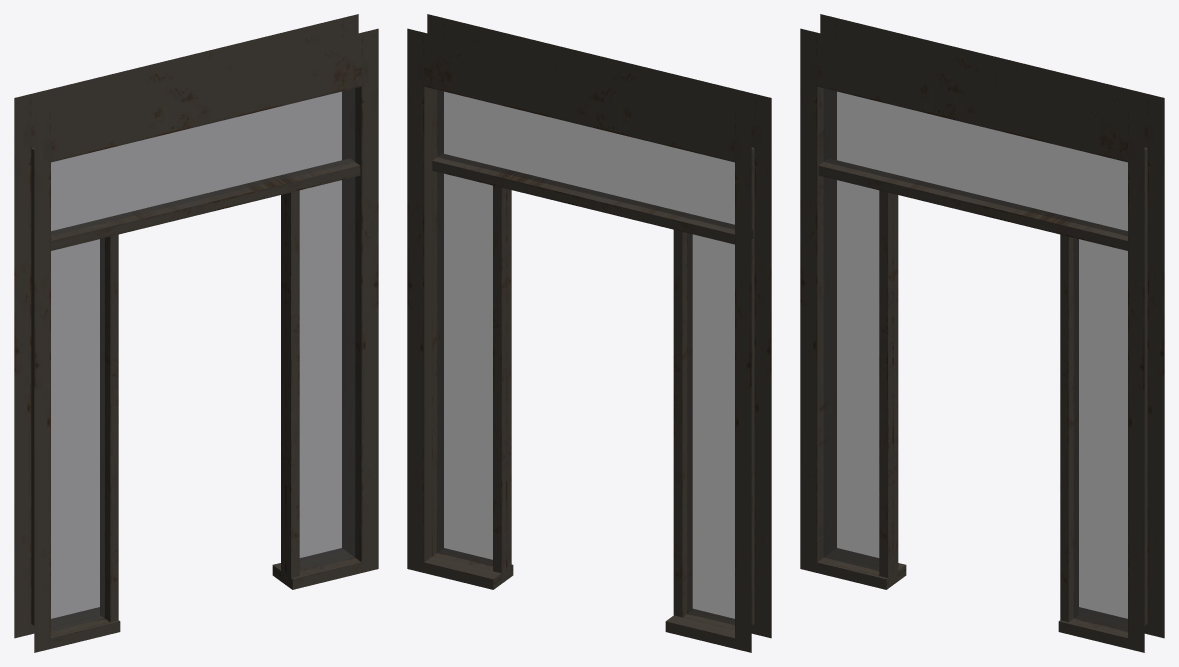
The model's file is DoorFrame_Metal_Single.glb.
The picture shows the model from 3 angles, left to right: view 1: azimuth 30°, elevation 25°; view 2: azimuth 150°, elevation 25°; view 3: azimuth 330°, elevation 25°; orthographic projection.
Visible parts, largest first — view 1: DoorFrame_Metal_Single; view 2: DoorFrame_Metal_Single; view 3: DoorFrame_Metal_Single.
Boxes of the visible parts, left/top/right/bottom form: DoorFrame_Metal_Single: left=14, top=14, right=378, bottom=652; DoorFrame_Metal_Single: left=407, top=14, right=771, bottom=652; DoorFrame_Metal_Single: left=800, top=14, right=1164, bottom=652.
Size of the model in its own units: 2 by 3 by 0.2.
Materials: 2 (1 with a texture image).
